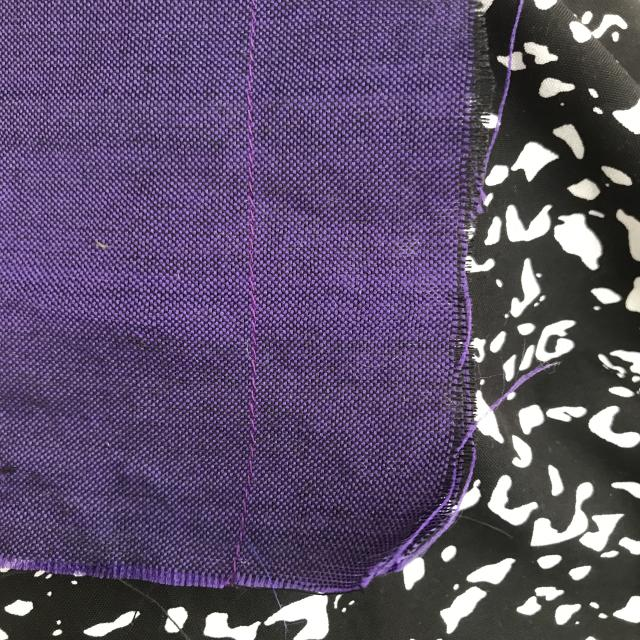good: (227, 28, 279, 244), (235, 316, 261, 506)
